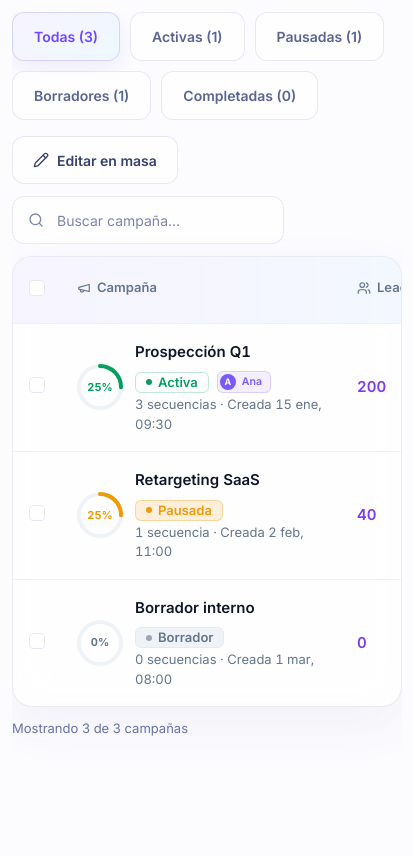
Scenario: CampaignsTable › busca por nombre y avisa cuando no hay coincidencias
The width and height of the screenshot is (414, 856).
Later steps or results of the test are not shown.
In the field labelled "Buscar campaña": (148, 220) [12,196,284,244], type "retarget"
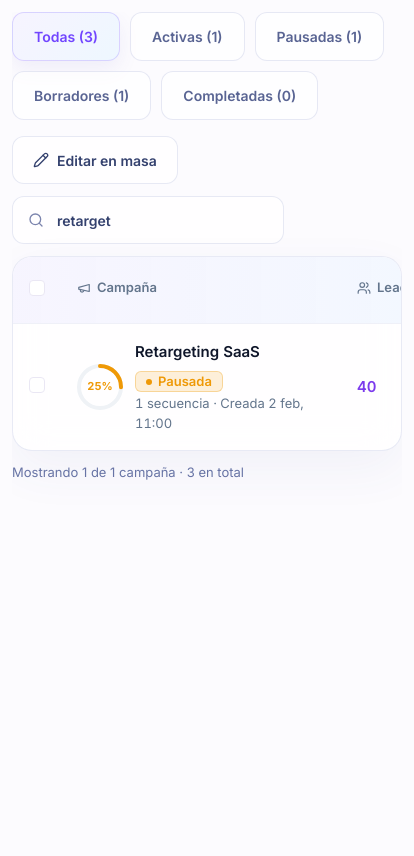
Expected: the text "Retargeting SaaS" is shown, [135,340,260,363]
Now the text "Prospección Q1" is gone
